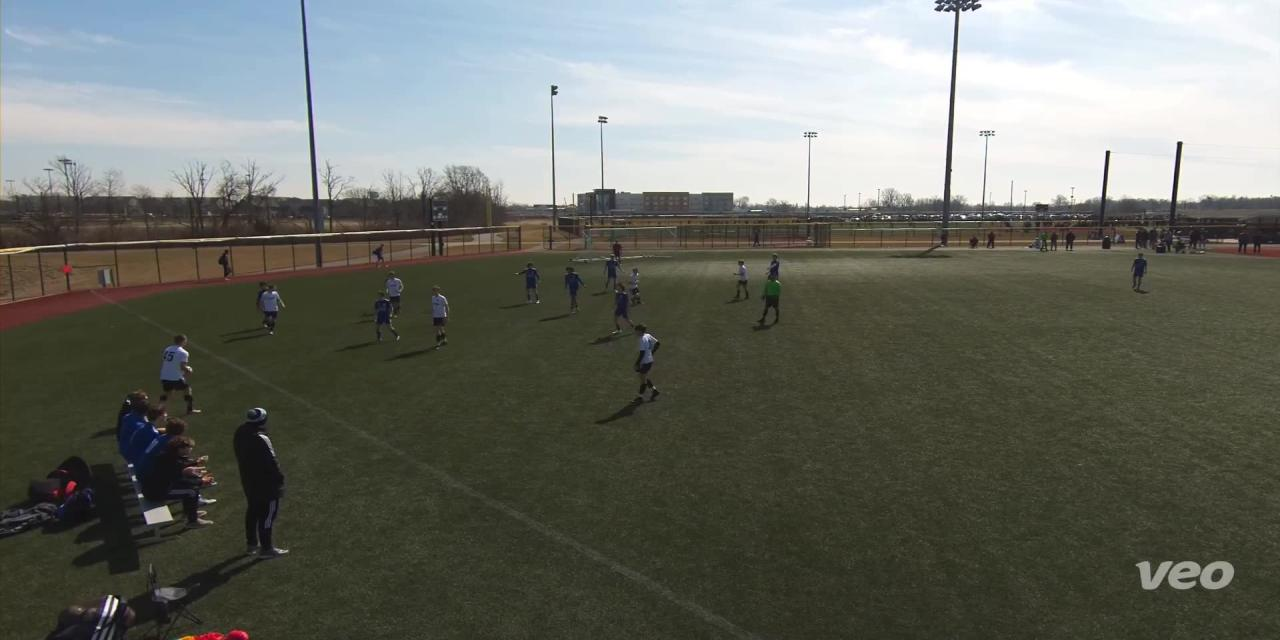goal: (572, 220, 689, 270)
